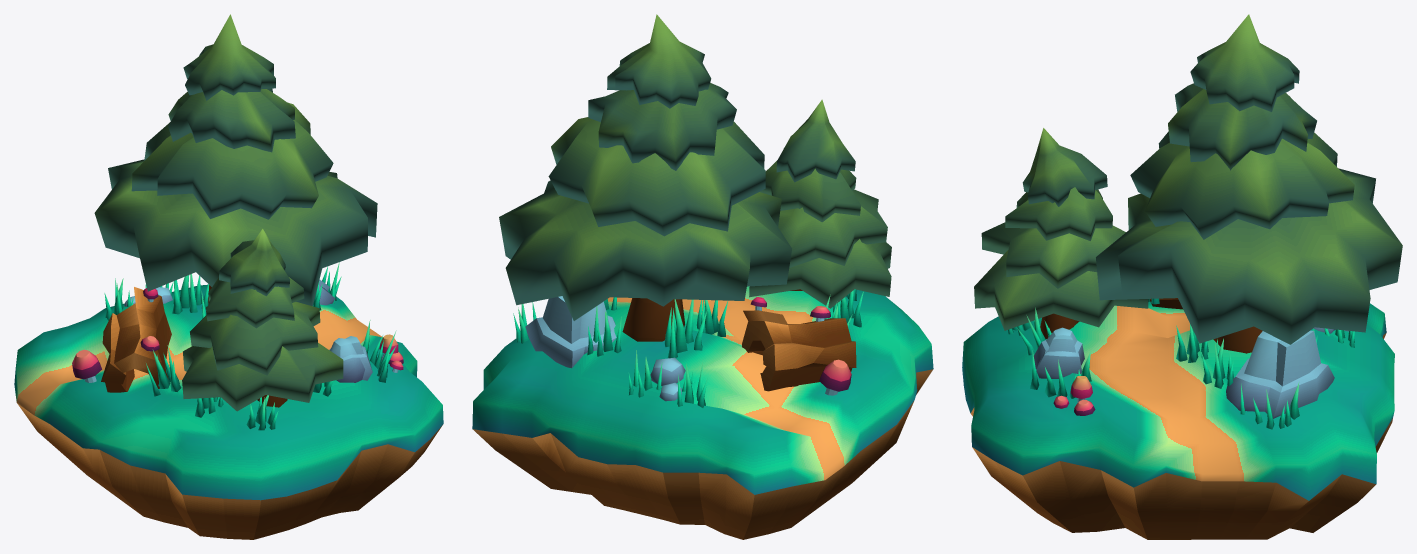
Rendered from PineTreeScene.fbx.
3 views of the same model, side by side, from view 1: azimuth 30°, elevation 25°; view 2: azimuth 150°, elevation 25°; view 3: azimuth 270°, elevation 25° (orthographic). The views are drawn at different scales.
Parts seen in each view (by area): view 1: pCube15; view 2: pCube15; view 3: pCube15.
Part boxes in pixels (box(x1,y1,x2,y2)): pCube15: box(14, 14, 443, 539); pCube15: box(472, 14, 933, 539); pCube15: box(962, 14, 1402, 539).
Bounding box in the file's own units: 15.45 × 20.13 × 16.65.
1 material, 1 textured.
